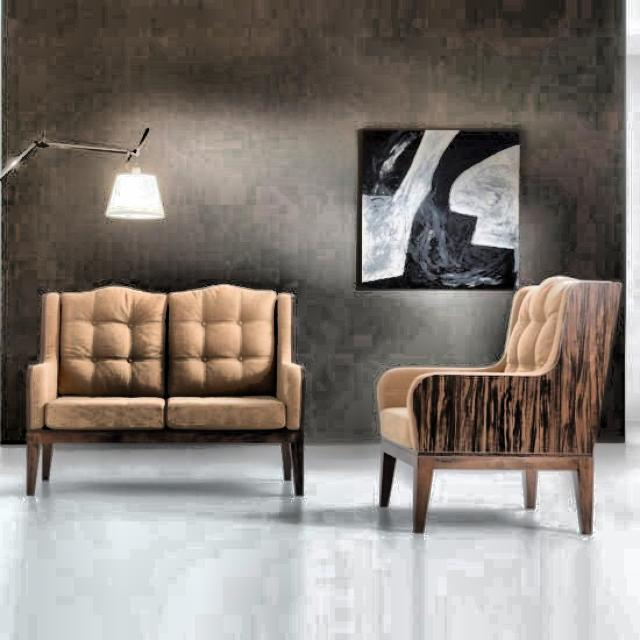sofa: (24, 282, 305, 496)
